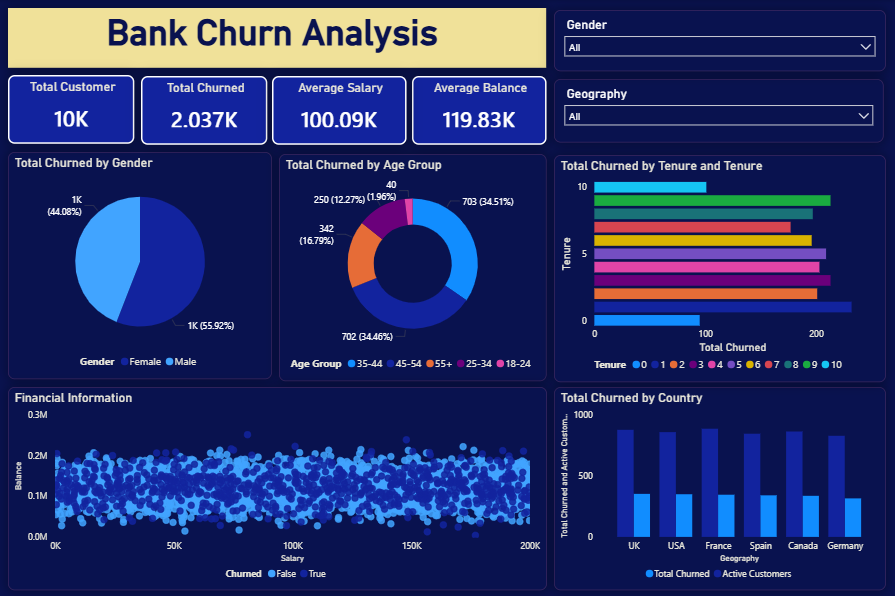

The page's visual inventory and layout, read from the dashboard file:
{"tool":"powerbi","page":{"name":"Page 1","canvas":[1200,800],"ordinal":0},"visuals":[{"type":"cardVisual","title":"Total Customer","fields":{"Data":["account.Total Customers"]},"box":[11.7,100.7,169.3,92],"z":0,"group":"g1"},{"type":"pieChart","fields":{"Category":["demographic.Gender"],"Y":["account.Total Churned"]},"box":[11.7,202.9,353.3,303.6],"z":0},{"type":"cardVisual","title":"Total Churned","fields":{"Data":["account.Total Churned"]},"box":[189.8,102.2,169.3,92],"z":1000,"group":"g1"},{"type":"clusteredColumnChart","title":"Total Churned by Country","fields":{"Category":["location.Geography"],"Y":["Measure Table.Total Churned","Measure Table.Active Customers"]},"box":[743.1,518.2,443.8,271.5],"z":1000},{"type":"donutChart","fields":{"Category":["demographic.Age Group"],"Y":["Measure Table.Total Churned"]},"box":[375.2,205.8,357.7,303.6],"z":2000},{"type":"scatterChart","title":"Financial Information","fields":{"X":["demographic.Salary"],"Series":["demographic.Churned"],"Y":["account.Balance"]},"box":[11.7,518.2,721.2,271.5],"z":3000},{"type":"cardVisual","title":"Average Balance","fields":{"Data":["Measure Table.Avg Balance"]},"box":[551.8,102.2,179.6,92],"z":4000,"group":"g1"},{"type":"barChart","fields":{"Category":["account.Tenure"],"Y":["Measure Table.Total Churned"],"Series":["account.Tenure"]},"box":[743.1,207.3,443.8,303.6],"z":4000},{"type":"textbox","box":[11.7,10.2,719.7,80.3],"z":5000},{"type":"cardVisual","title":"Average Salary","fields":{"Data":["Measure Table.Avg Salary"]},"box":[365,102.2,179.6,92],"z":5000,"group":"g1"},{"type":"slicer","fields":{"Values":["location.Geography"]},"box":[743.1,105.1,440.9,84.7],"z":6000},{"type":"slicer","fields":{"Values":["demographic.Gender"]},"box":[743.1,13.1,443.8,81.8],"z":7000},{"type":"group","id":"g1","title":"Group 1","box":[11.7,100.7,719.7,93.4],"z":8000}]}

Visuals, with their boxes in screenshot pixels (x1, y1, x2, y2), scaled from the page's 1200x800 canvas onto the 895x596 screenshot:
"Total Customer" cardVisual: (left=9, top=75, right=135, bottom=144)
pieChart - demographic.Gender x account.Total Churned: (left=9, top=151, right=272, bottom=377)
"Total Churned" cardVisual: (left=142, top=76, right=268, bottom=145)
"Total Churned by Country" clusteredColumnChart: (left=554, top=386, right=885, bottom=588)
donutChart - demographic.Age Group x Measure Table.Total Churned: (left=280, top=153, right=547, bottom=380)
"Financial Information" scatterChart: (left=9, top=386, right=547, bottom=588)
"Average Balance" cardVisual: (left=412, top=76, right=546, bottom=145)
barChart - account.Tenure x Measure Table.Total Churned: (left=554, top=154, right=885, bottom=381)
textbox: (left=9, top=8, right=546, bottom=67)
"Average Salary" cardVisual: (left=272, top=76, right=406, bottom=145)
slicer - location.Geography: (left=554, top=78, right=883, bottom=141)
slicer - demographic.Gender: (left=554, top=10, right=885, bottom=71)
"Group 1" group: (left=9, top=75, right=546, bottom=145)
